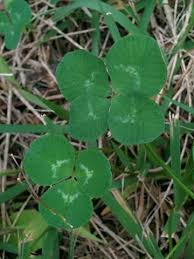4-clover: (58, 31, 168, 144)
